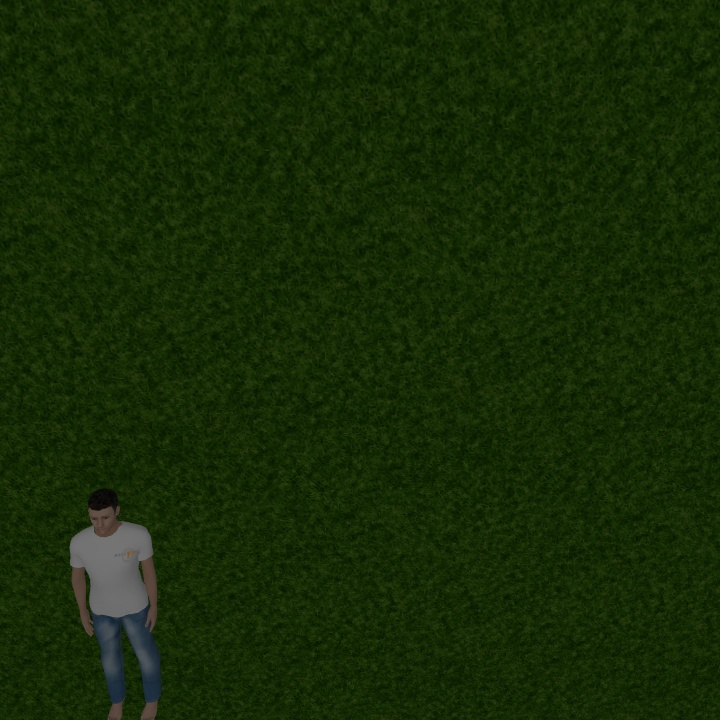victim: (66, 484, 164, 715)
